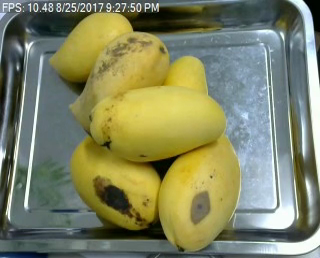Mango: (69, 31, 170, 140), (89, 84, 227, 163), (157, 131, 241, 252), (72, 133, 163, 230), (48, 11, 133, 83), (162, 55, 205, 97)
